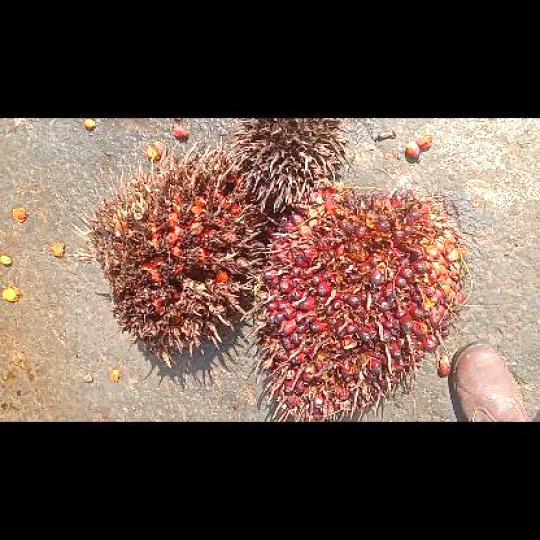masak: (240, 180, 470, 420)
terlalu masak: (73, 140, 265, 366)
